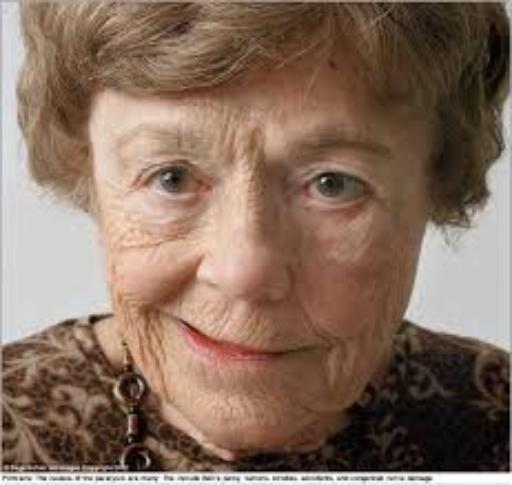left_eye: (299, 172, 377, 208)
left_lip_corner: (293, 341, 325, 362)
right_eye: (136, 165, 212, 200)
right_lip_corner: (168, 308, 200, 338)
